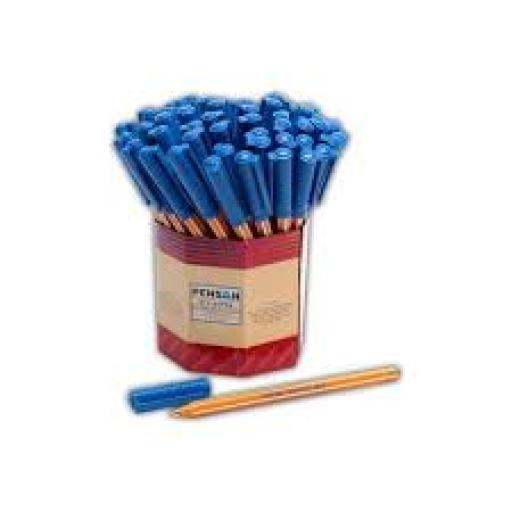tukenmez-kalem: (109, 84, 344, 240), (123, 376, 453, 421)
